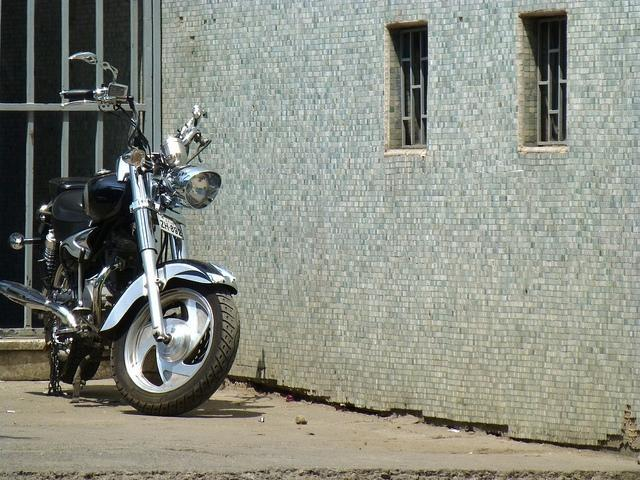motorcycle: (0, 83, 241, 416)
